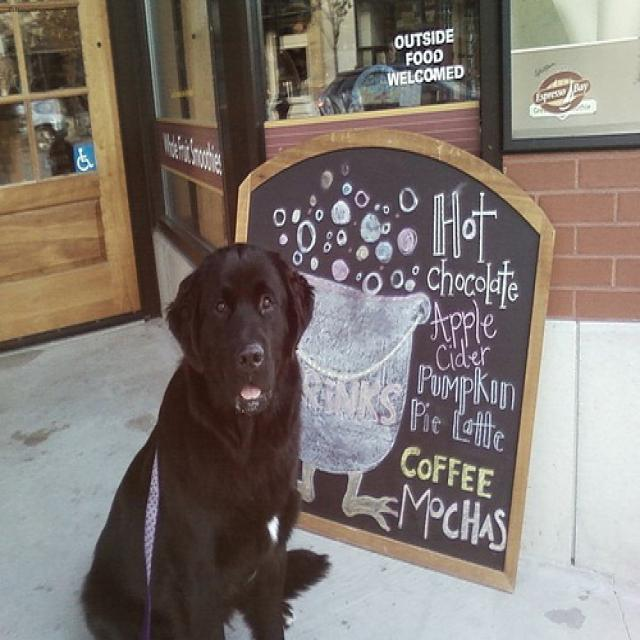dog-newfoundland: (72, 234, 335, 637)
